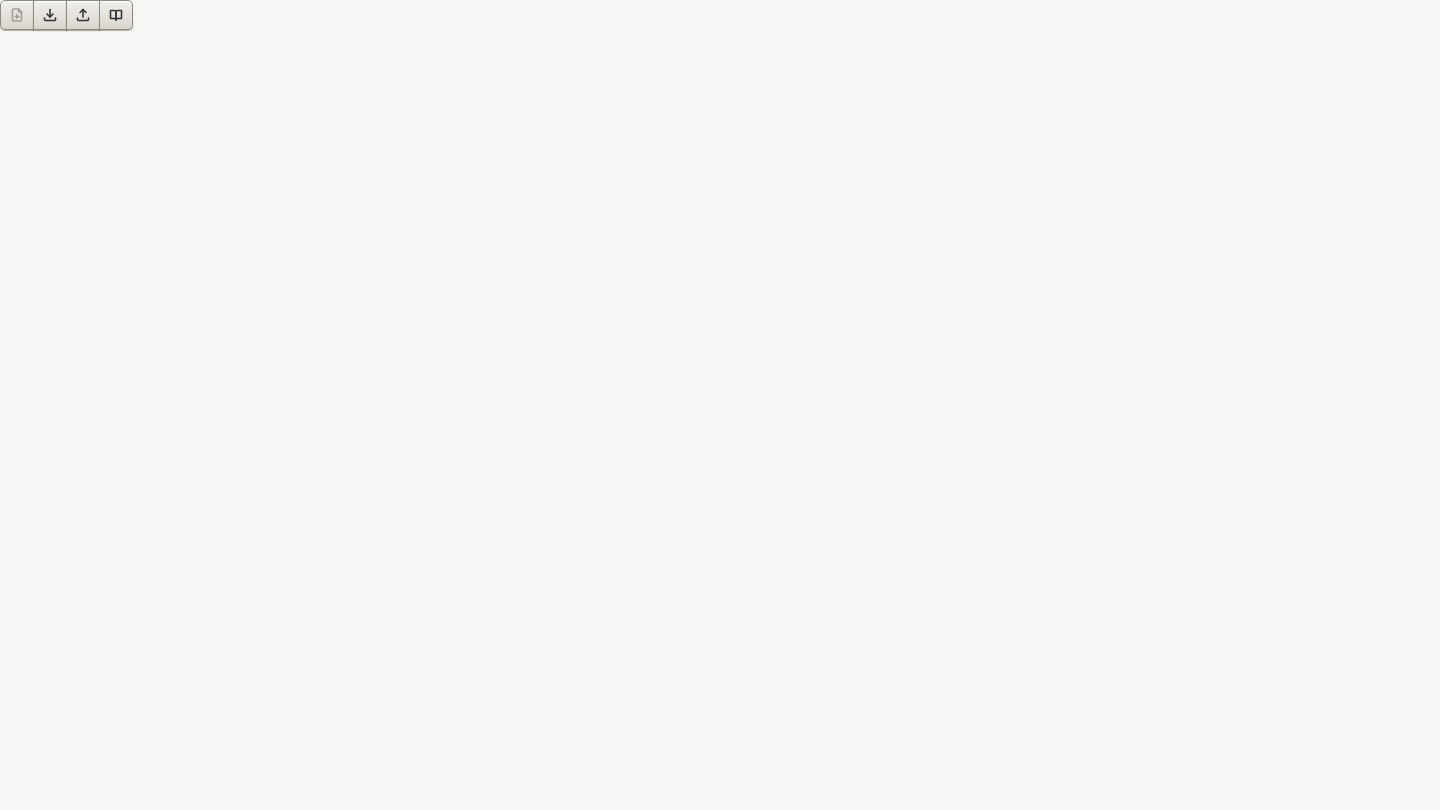
Test case: PatchFileControls › examples › says when no example matches
This screenshot has width=1440, height=810.
Click the button named "Examples" at (116, 15), box [99,0,133,30]
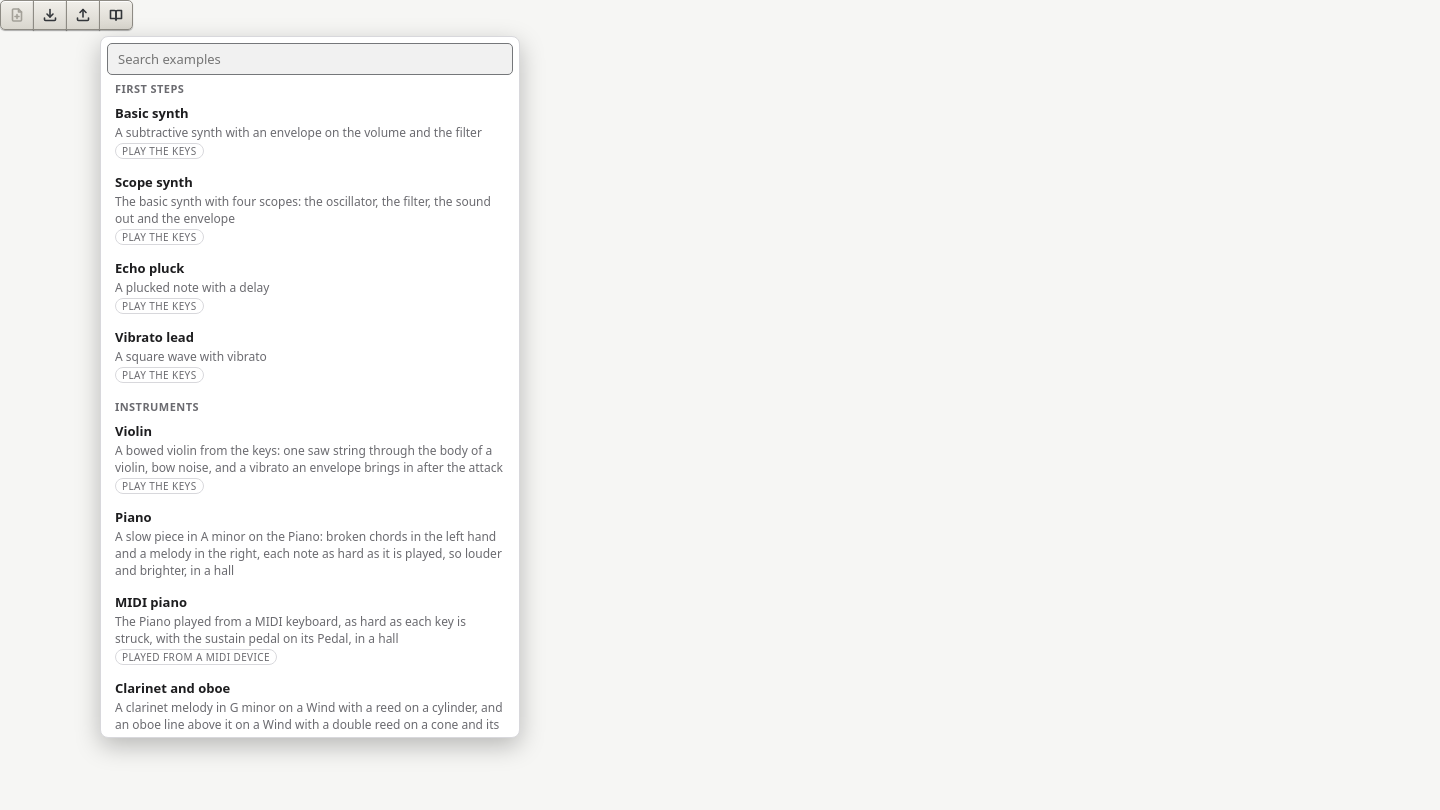
Type "zzz" into the search field labelled "Search examples" at (310, 59), box [107,43,513,75]
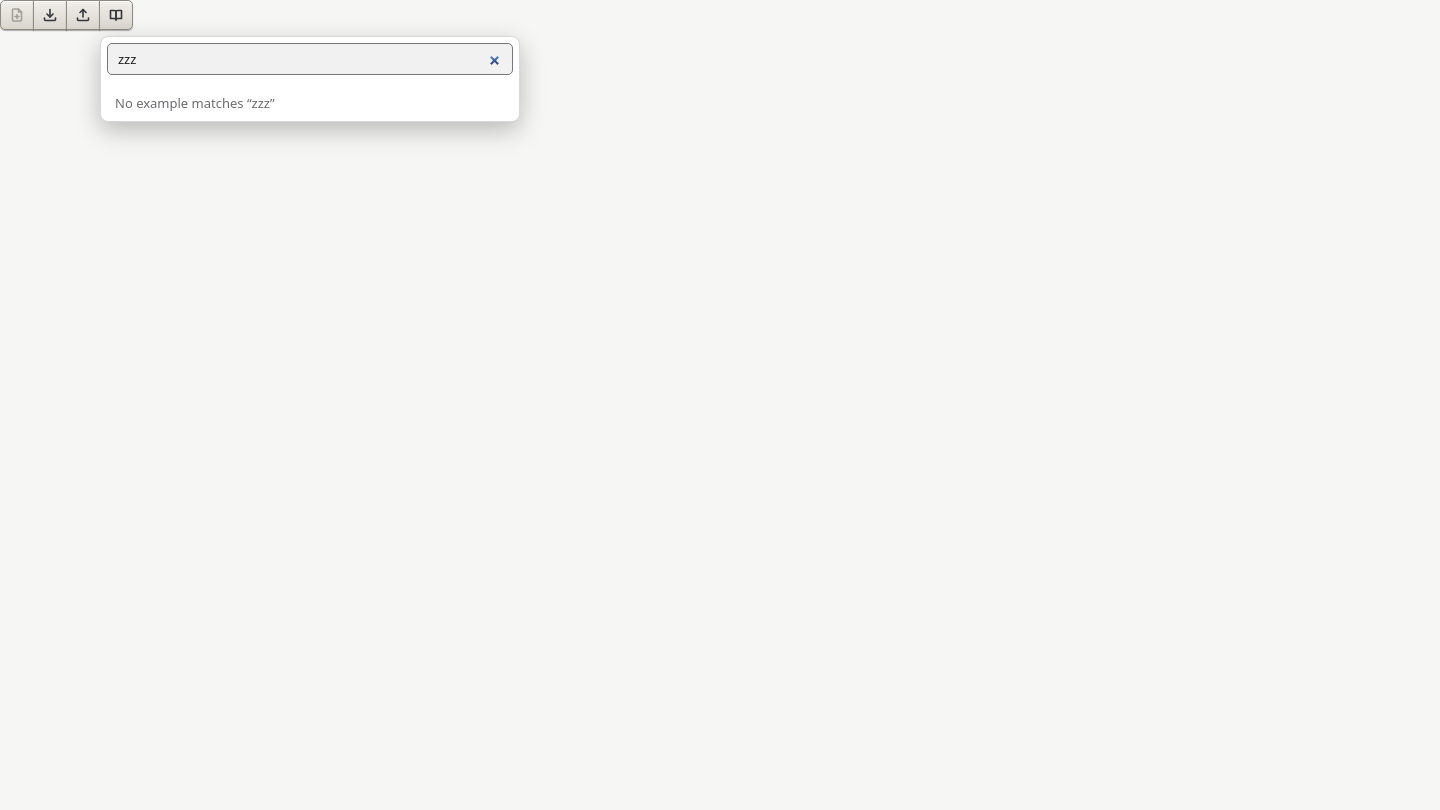
Check: the dialog named "Examples" reads "No example matches “zzz”", box [100,36,520,122]
